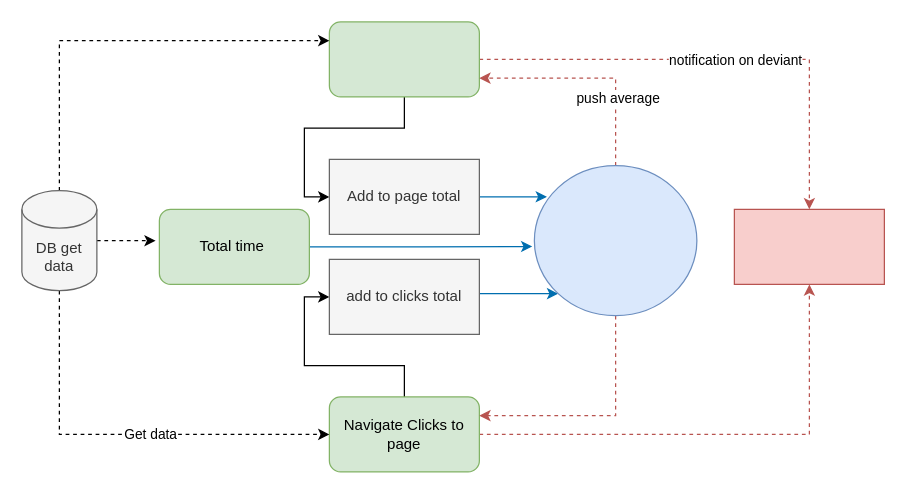
Image size: 906x494. Some labels were removed from this diagram. The shapes that lost their labels are listed below. From the top down, each one's centre as x and y in pixels, then its label:
point 403,59: Time per page
point 615,240: Calculate average
point 808,246: OUTPUT Red code on deviant behavior
